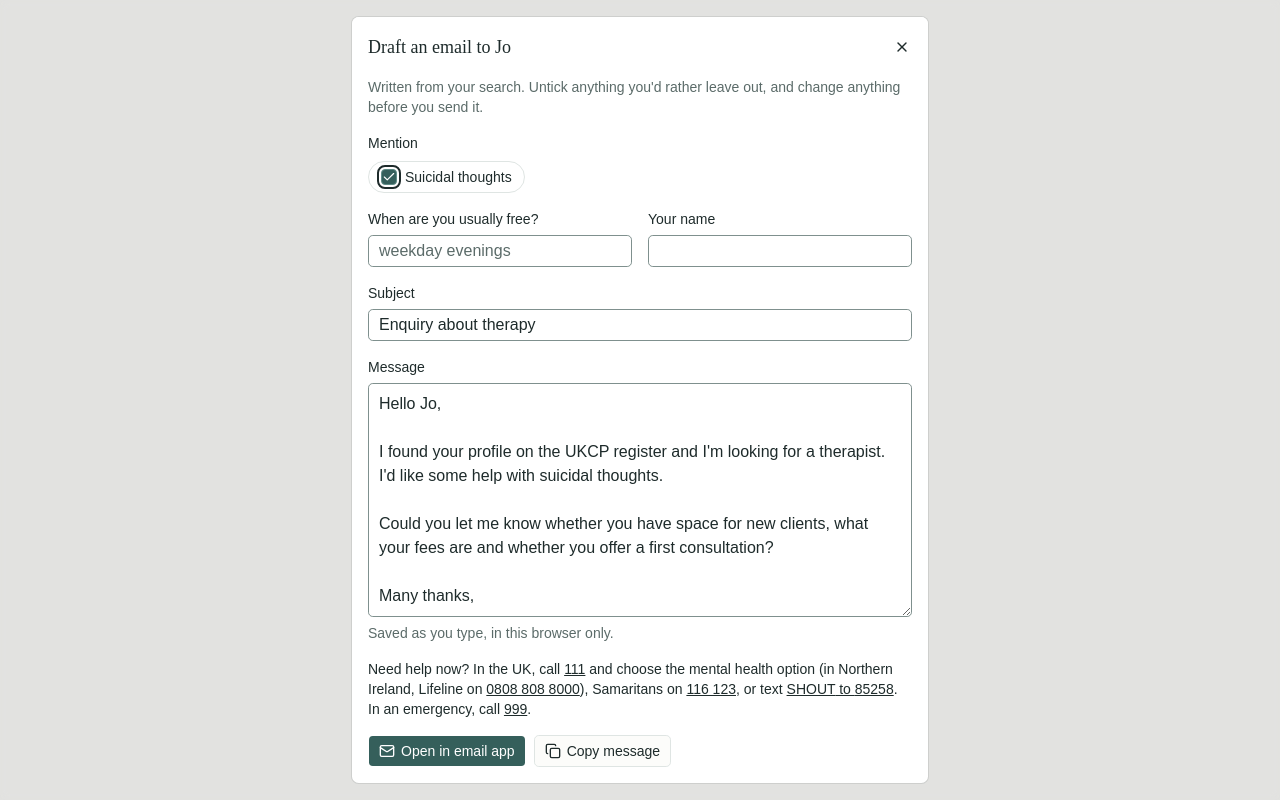
it: EmailDrafter › shows where to get help now while the message mentions suicidal thoughts
This screenshot has width=1280, height=800.
expect the text "Need help now?" is shown: met, box [368,661,564,677]
Click the checkbox named "Suicidal thoughts".
click(389, 177)  # box [381,169,397,185]
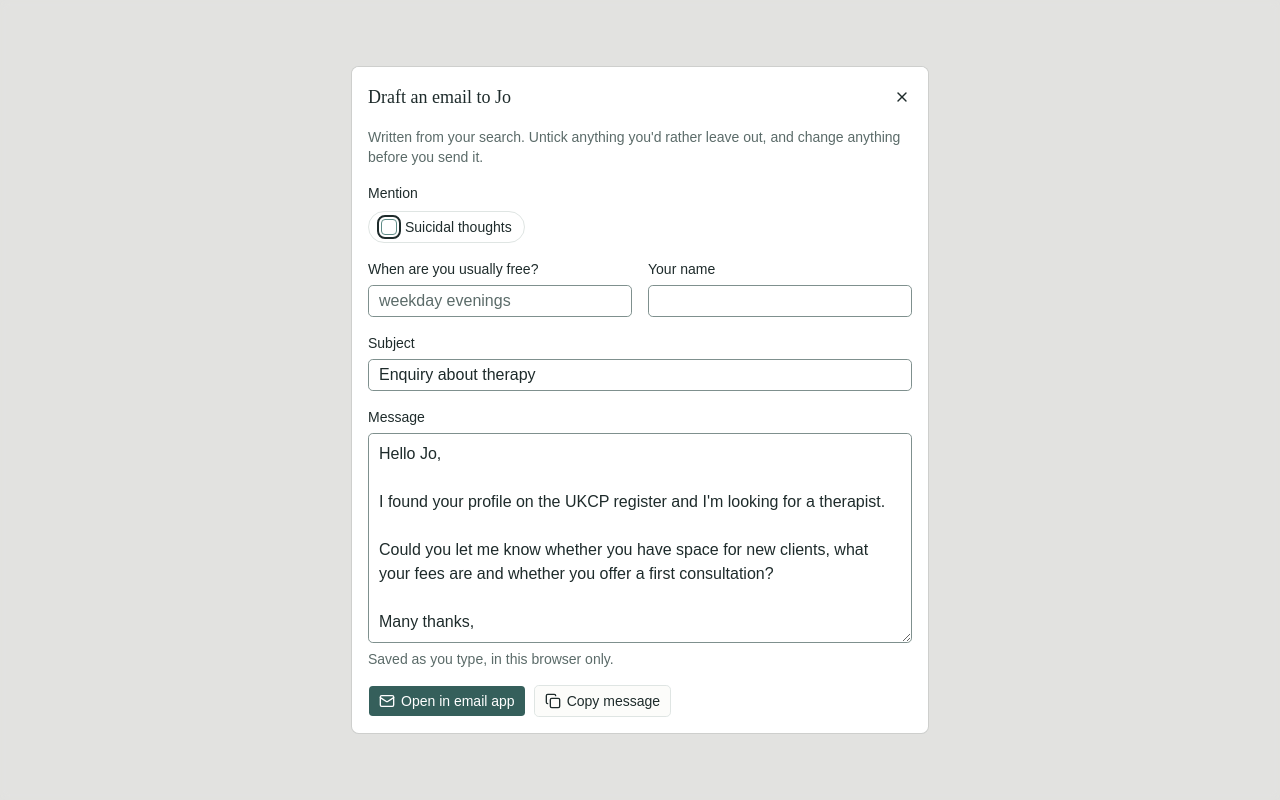
expect the text "Need help now?" is gone: met
